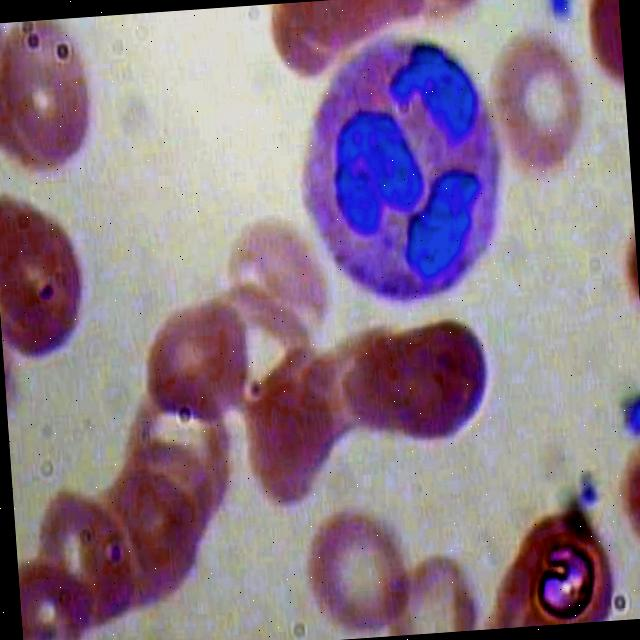Platelets: (615, 388, 640, 438), (540, 0, 580, 27)
RBC: (475, 29, 597, 185), (132, 289, 256, 436), (372, 304, 496, 451), (26, 478, 140, 634), (0, 179, 95, 364), (292, 500, 414, 640), (0, 15, 102, 182), (216, 218, 330, 361), (0, 20, 35, 155)
WBC: (282, 22, 518, 326)
